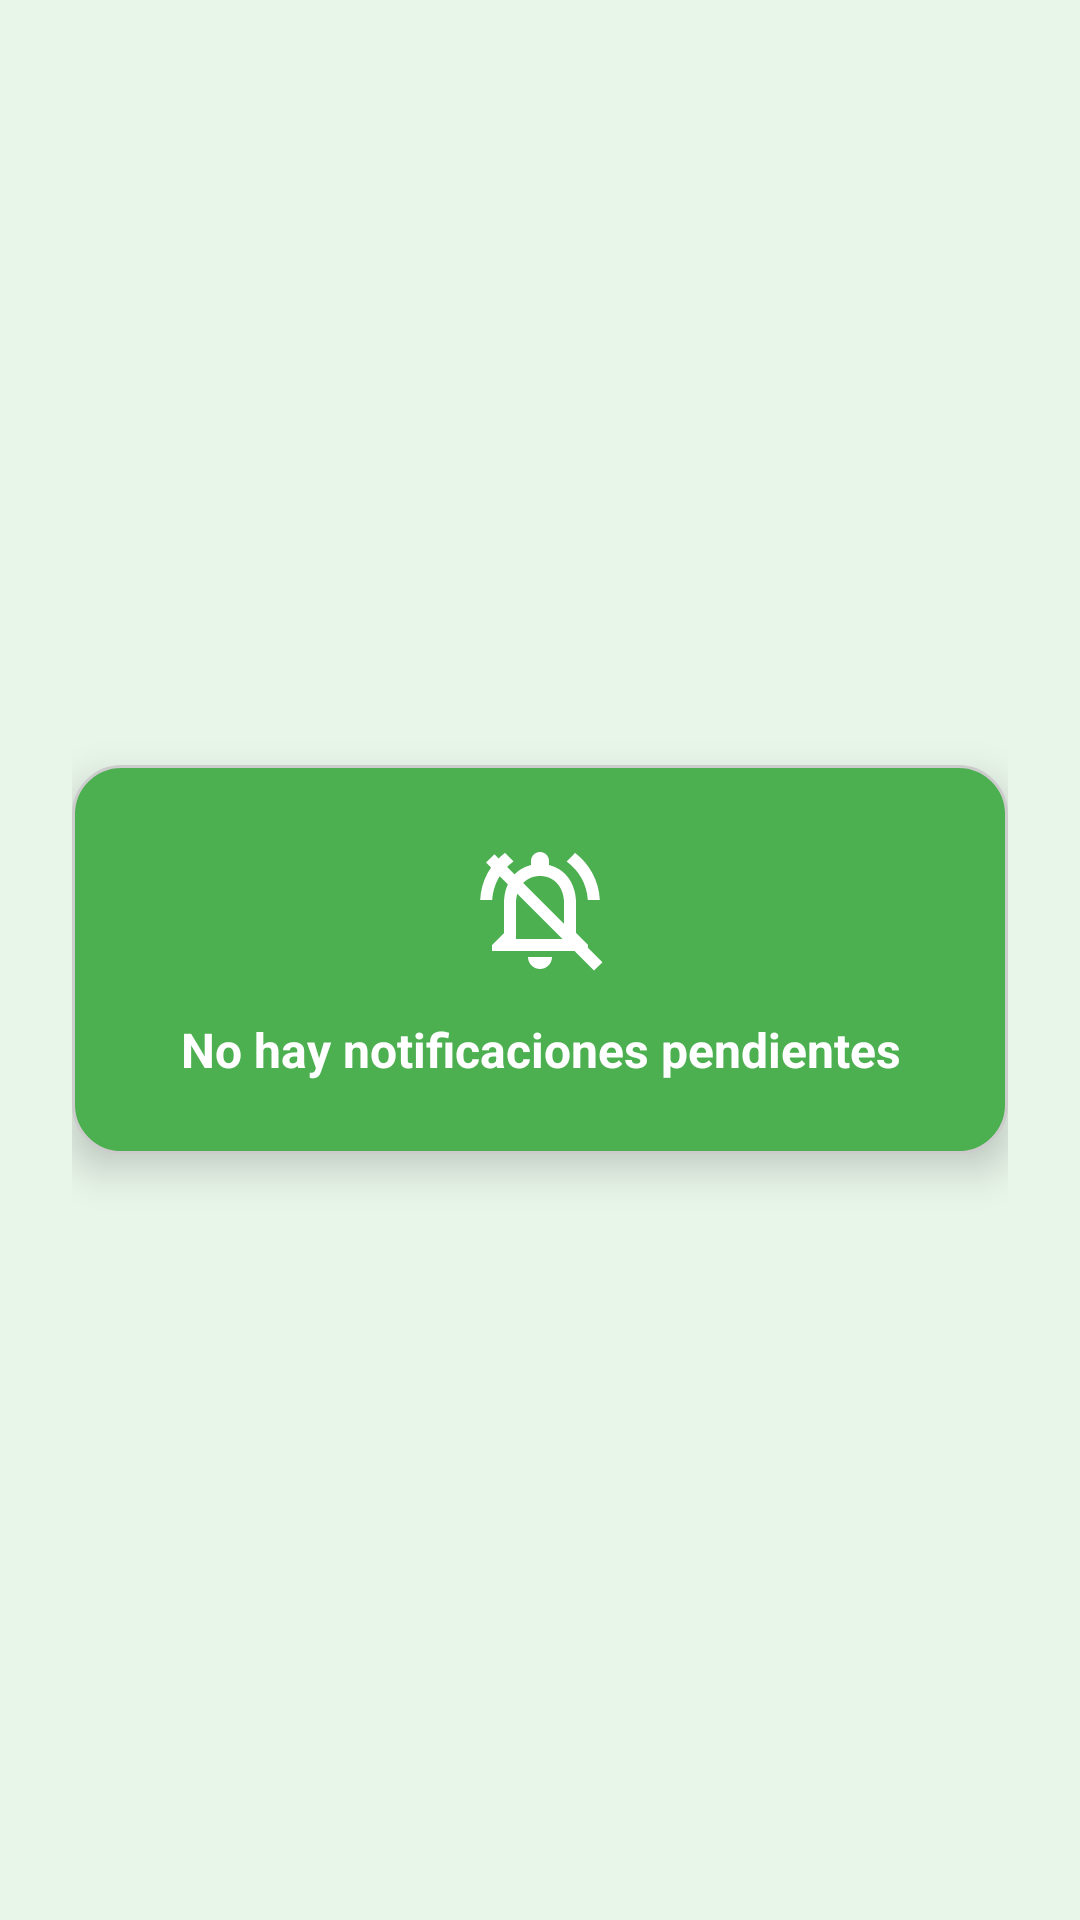

Where to tap for icons on this 1080*1920 app screen, as (x,y):
Sin notificaciones: (541,911)
